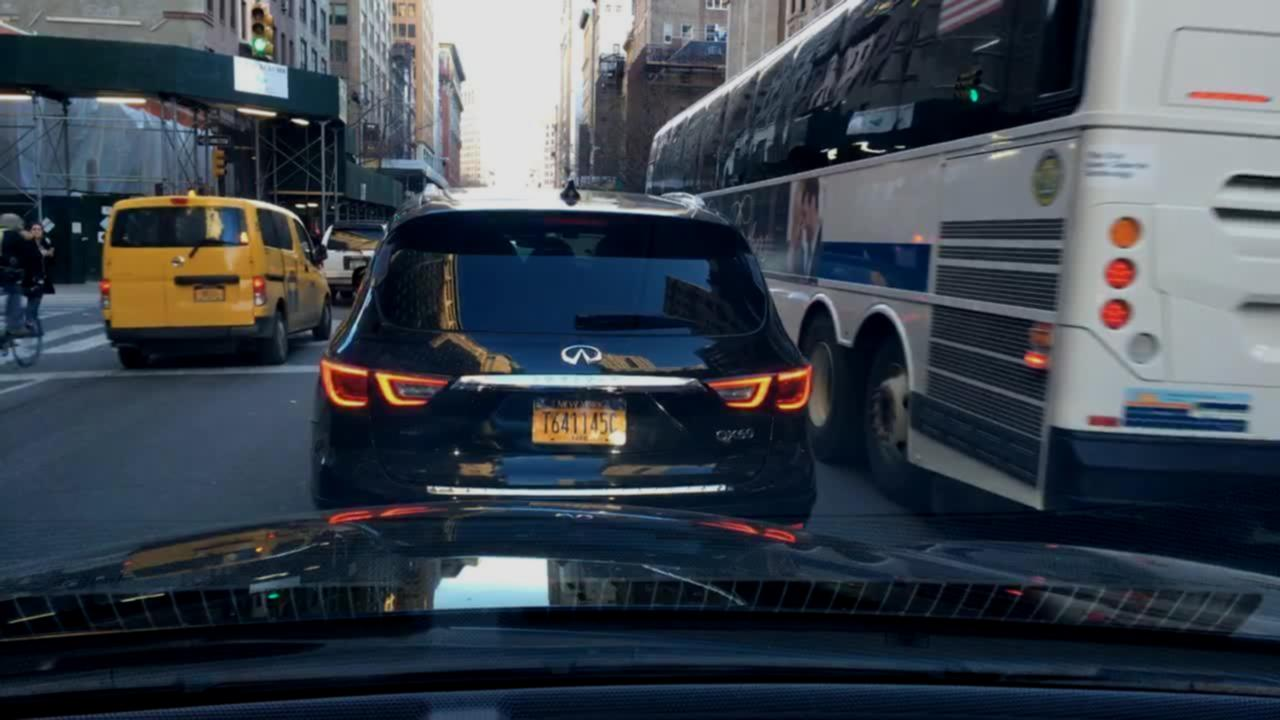Infiniti: (554, 337, 607, 369)
Nissan: (166, 252, 191, 274)
